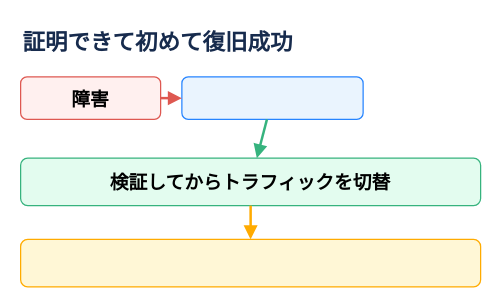
Image size: 501x308. Some labels were removed from this diagram. Here are the shapes that lost their labels. From the top down, the box of each, then its label:
(181, 76, 363, 119): データを復元
(19, 238, 481, 287): 測定: RPO 時点 • RTO 経過時間
